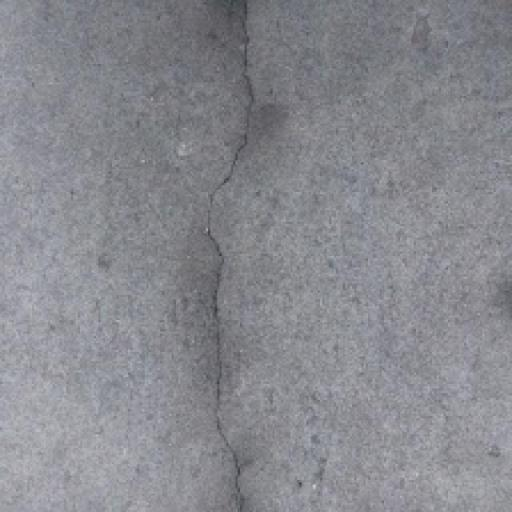moderate crack: (173, 0, 293, 512)
